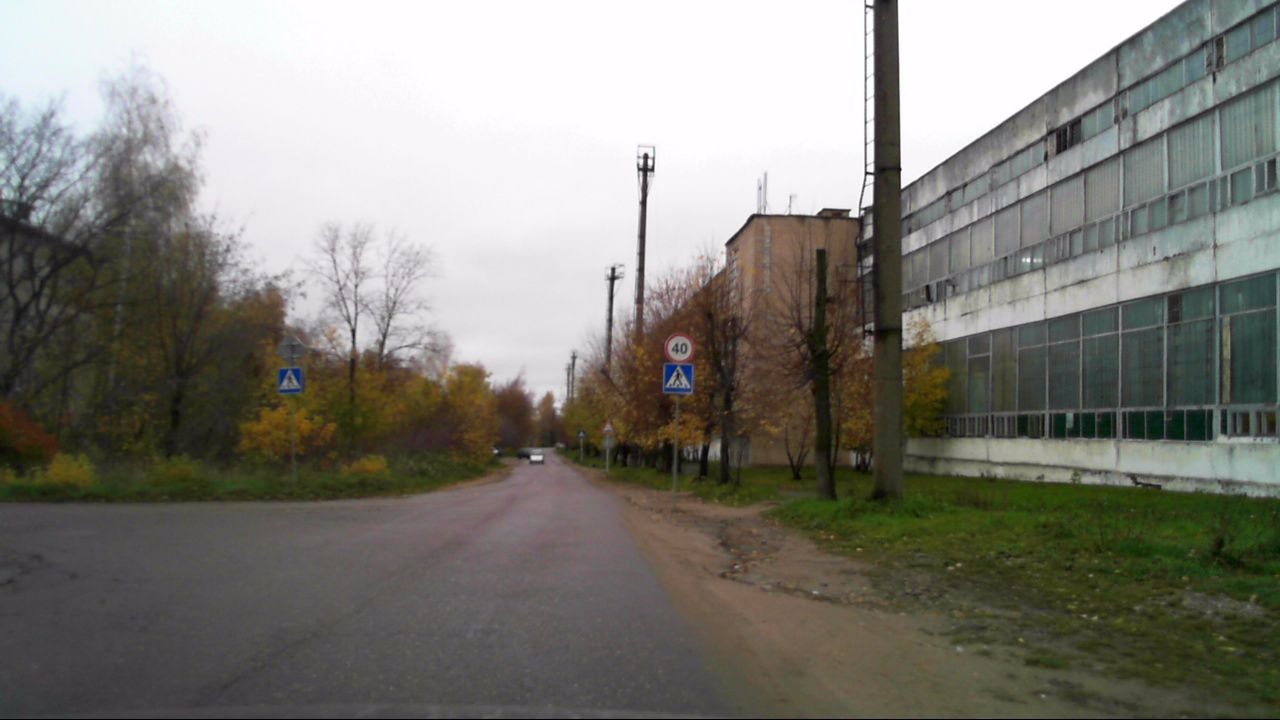speed_warning_40: (663, 332, 696, 366)
